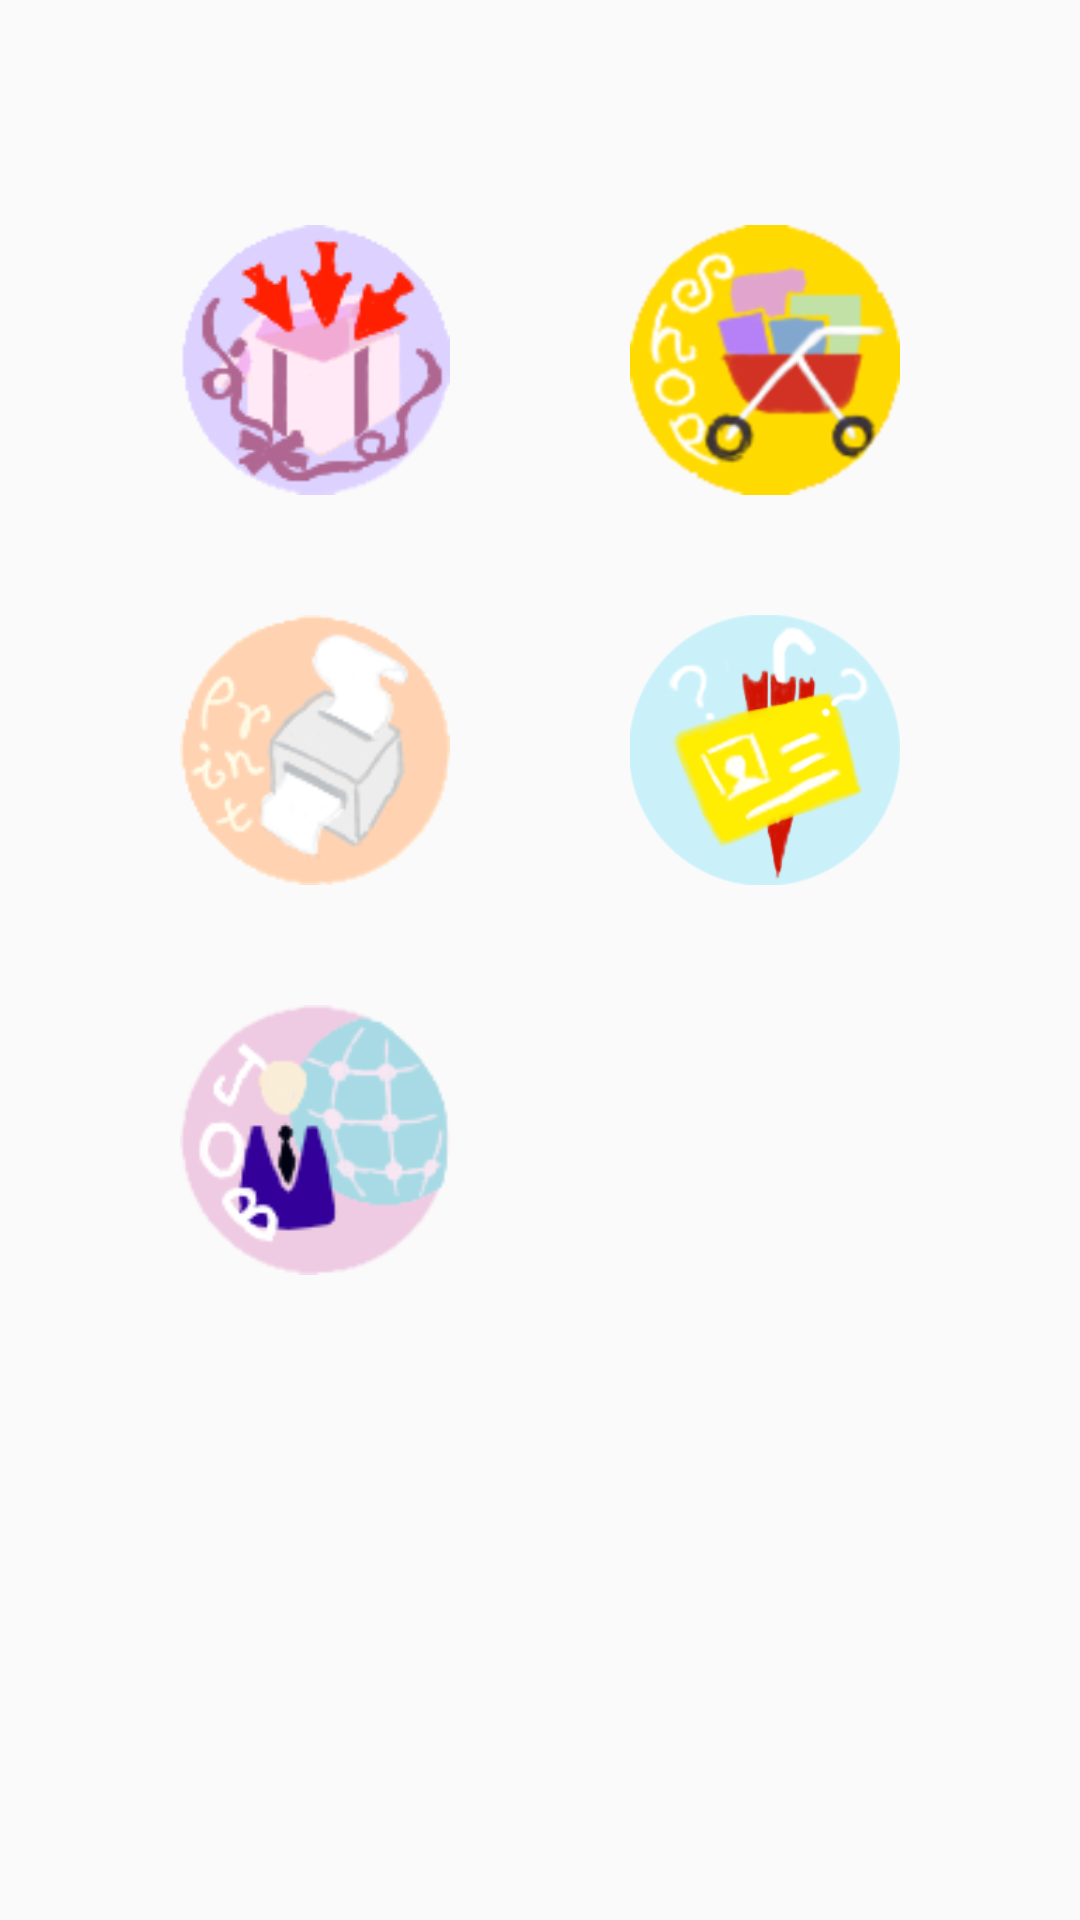

Named icons in this screenshot (1080x1920) and their bounding boxes, (x1, y1, x2, y2):
findwork: (182, 1007, 448, 1275)
joingood: (183, 225, 450, 495)
lost: (630, 615, 900, 885)
shop: (630, 225, 900, 495)
